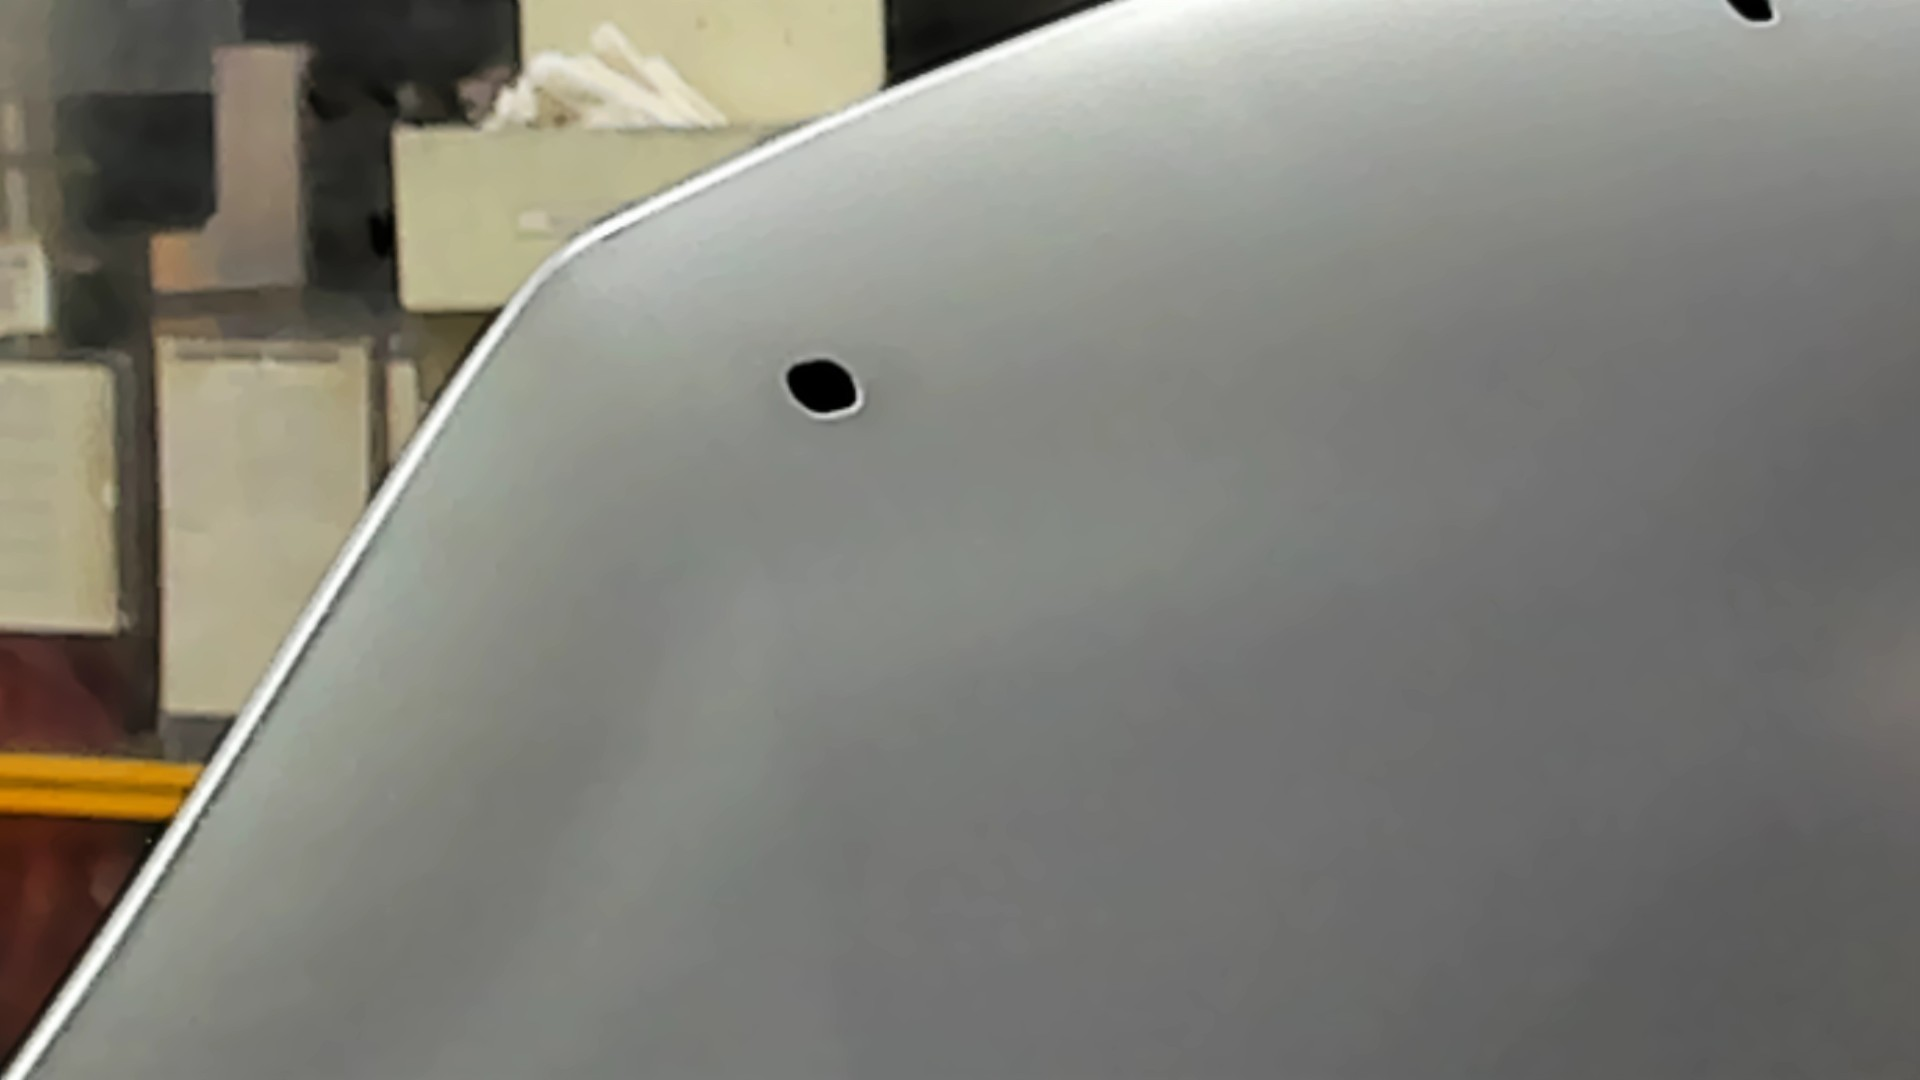amorfo: (778, 349, 870, 433), (1716, 1, 1788, 36)
capo: (945, 115, 1920, 1080)
